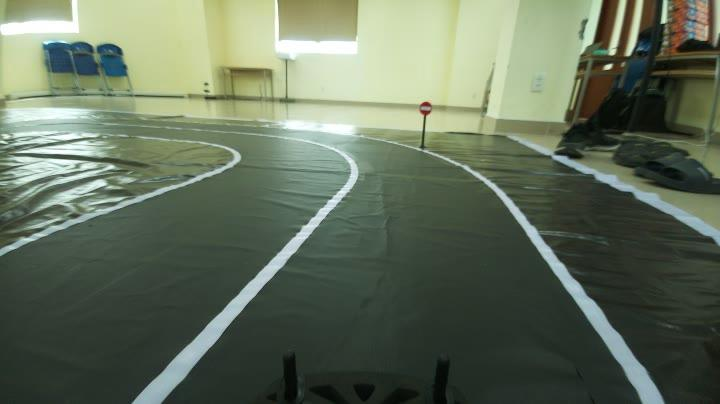no_entry: (412, 100, 436, 117)
